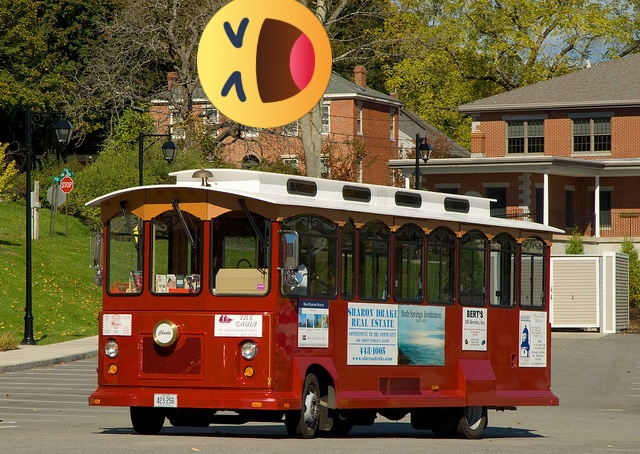haha: (197, 0, 332, 128)
